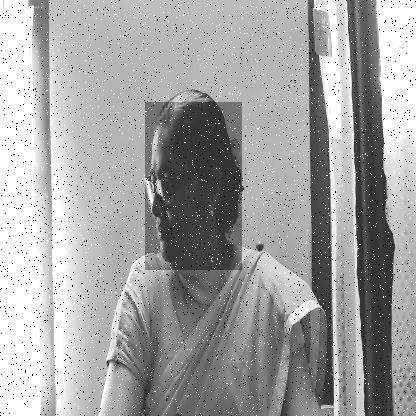Distracted: (145, 102, 242, 270)
